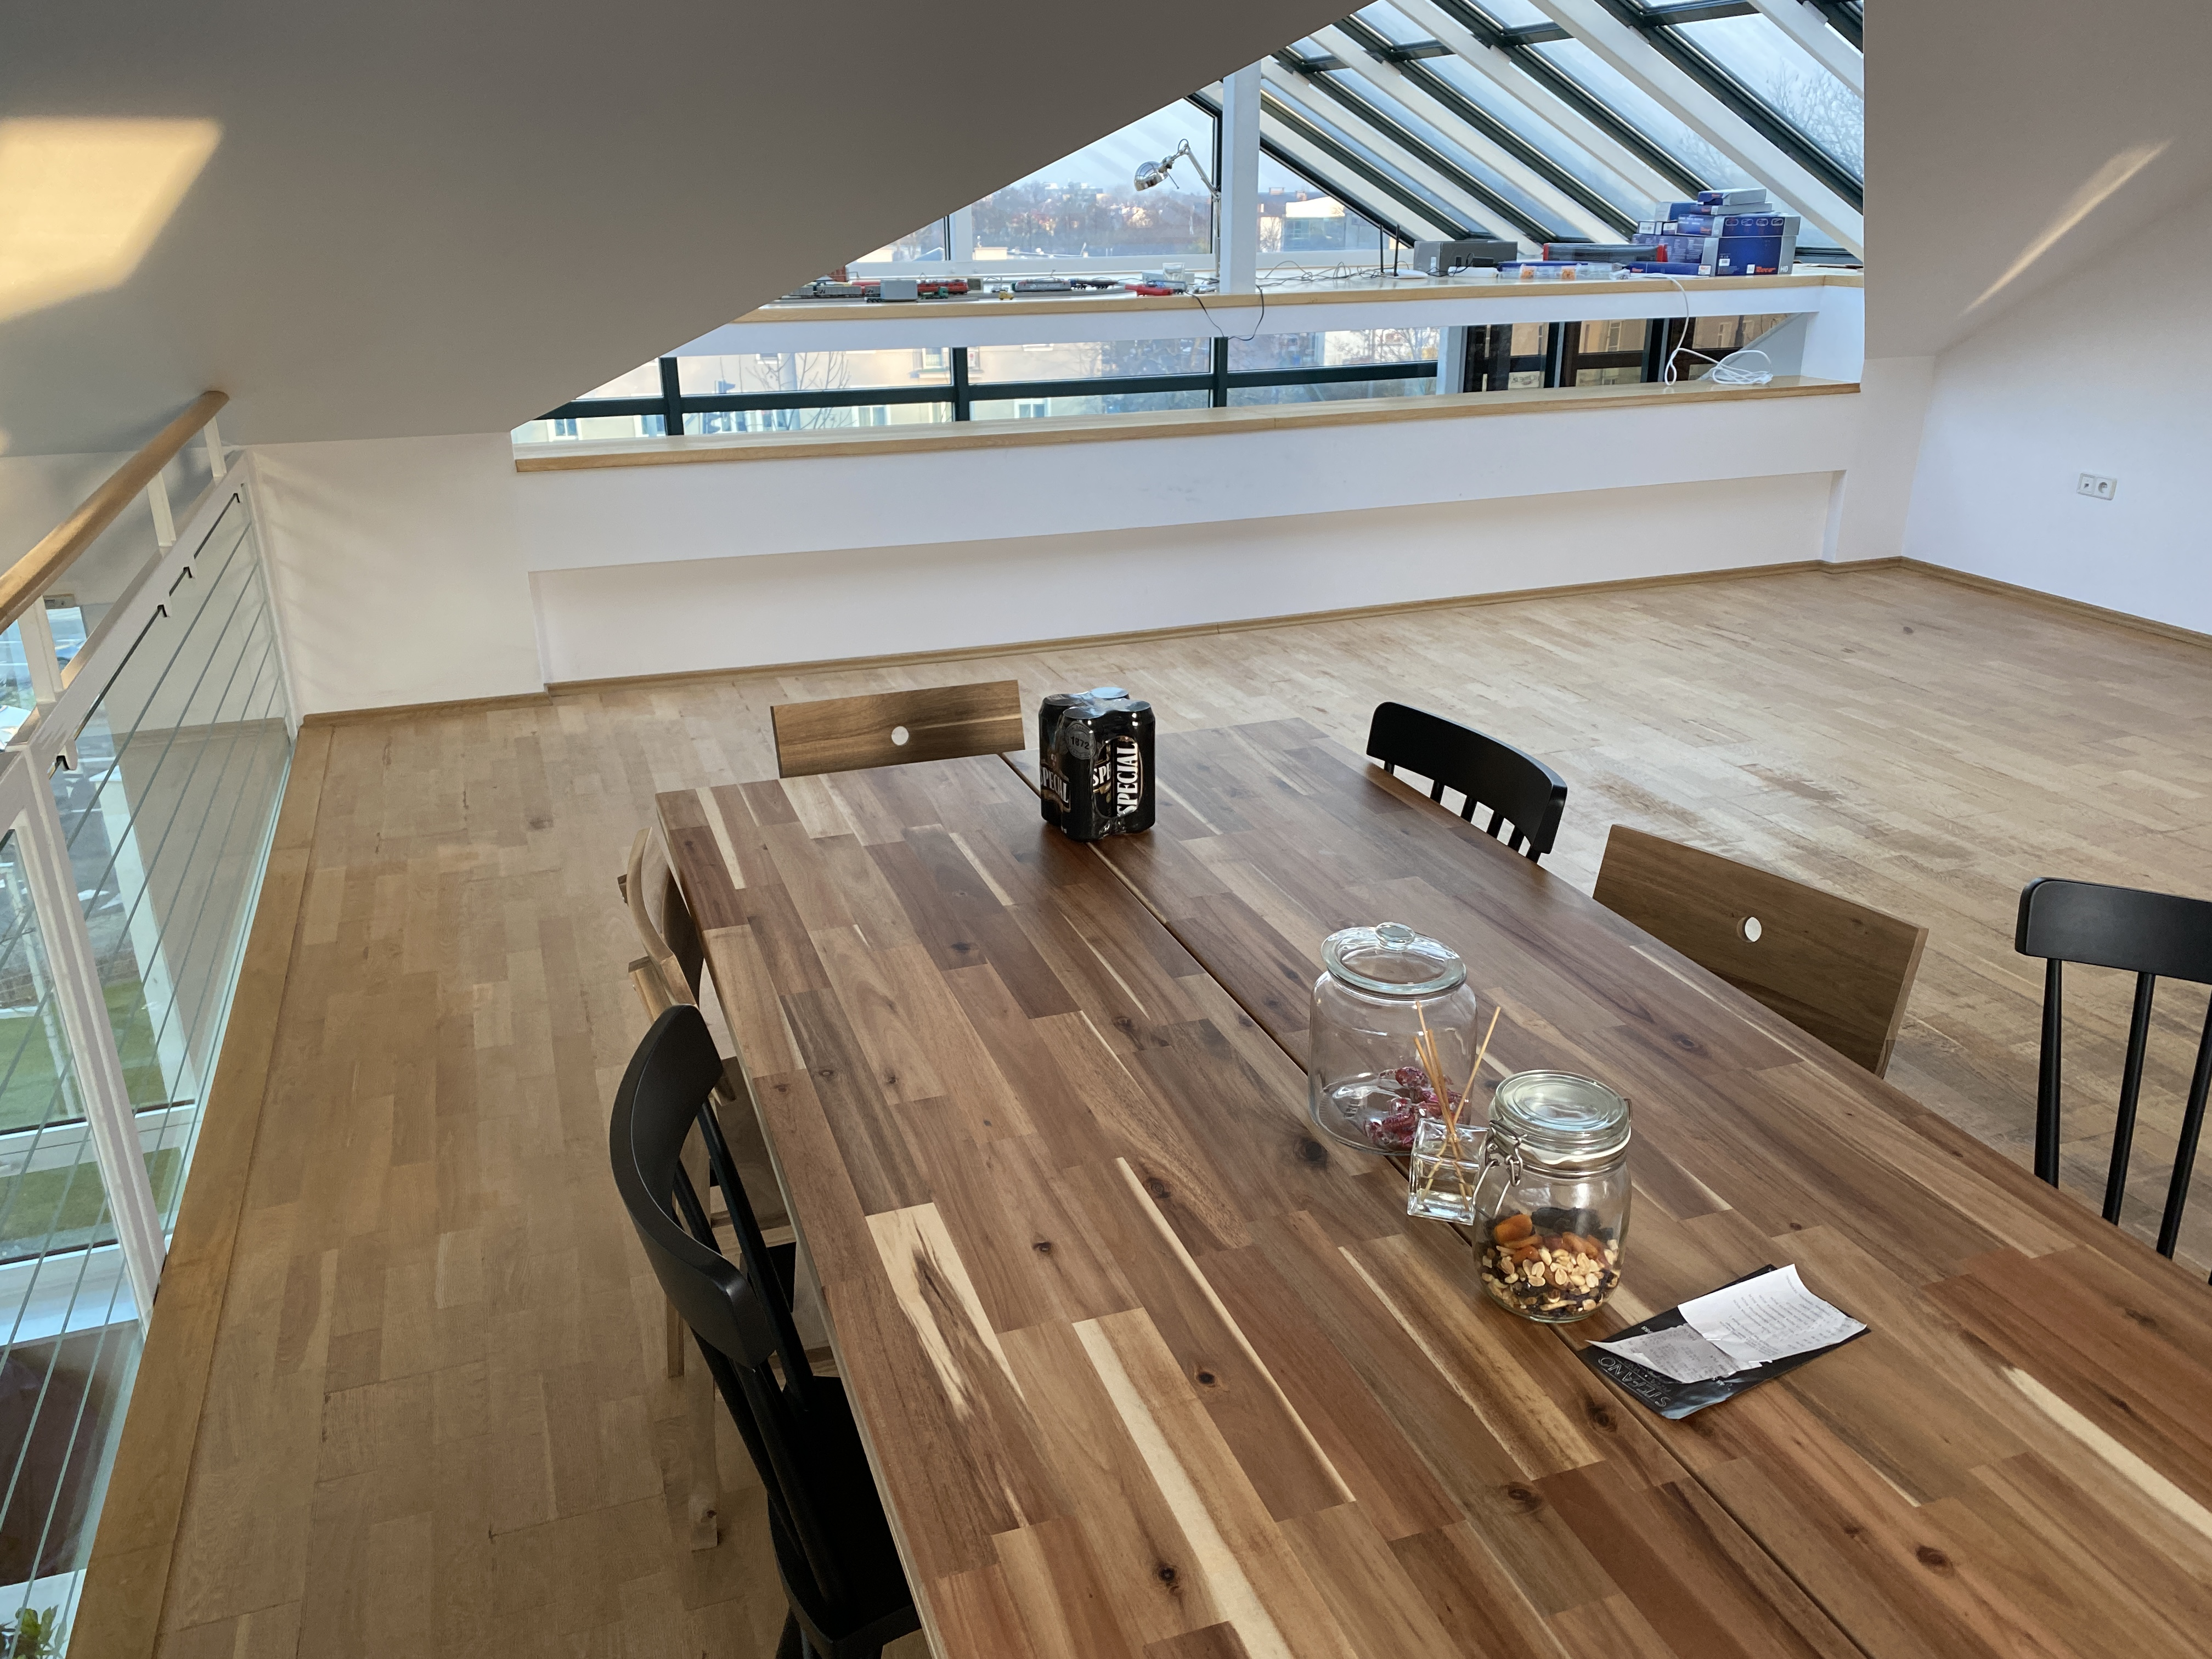jar: (1298, 913, 1477, 1157)
specjal: (1028, 687, 1155, 849)
